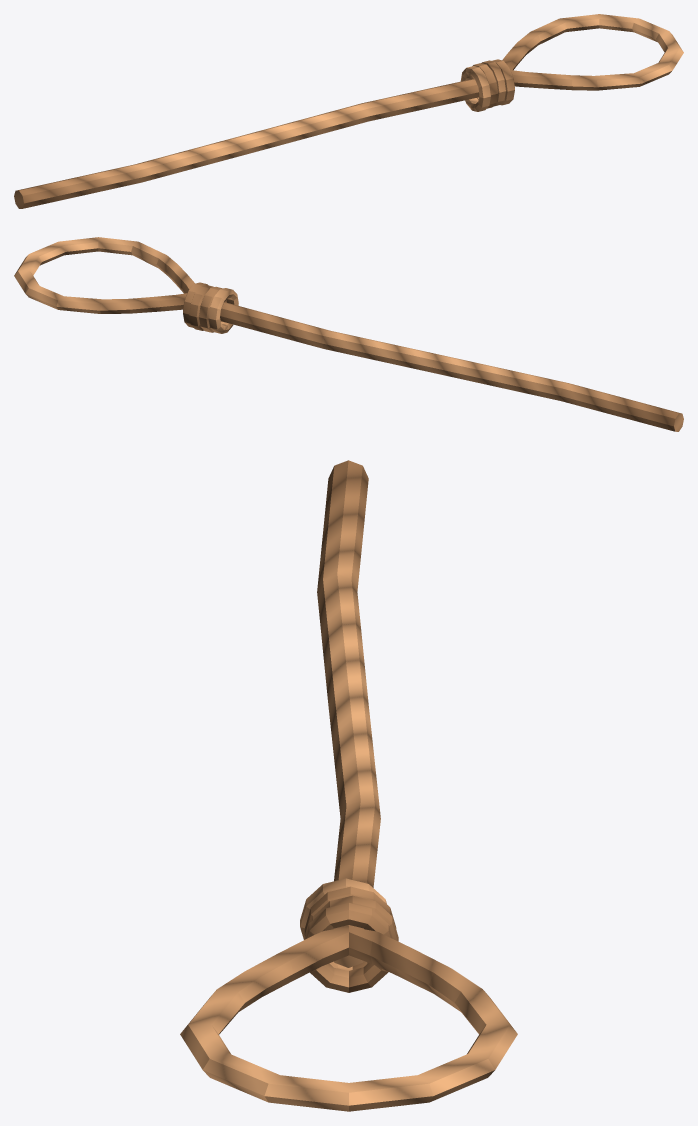
The model's file is Galgen.fbx.
The picture shows the model from 3 angles, top to bottom: view 1: azimuth 30°, elevation 25°; view 2: azimuth 150°, elevation 25°; view 3: azimuth 270°, elevation 25°; orthographic projection. The views are drawn at different scales.
Visible parts, largest first — view 1: Circle; view 2: Circle; view 3: Circle.
Boxes of the visible parts, x1,y1,x2,y2 form: Circle: [14, 14, 683, 208]; Circle: [14, 237, 683, 431]; Circle: [180, 460, 517, 1111].
Size of the model in its own units: 197 by 11.96 by 44.13.
